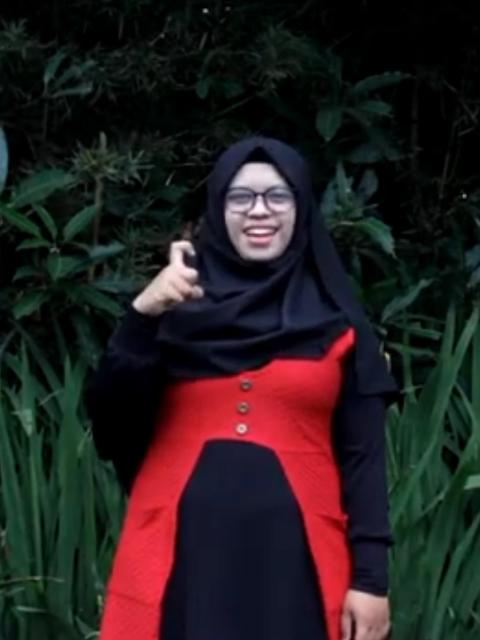X: (141, 235, 207, 315)
